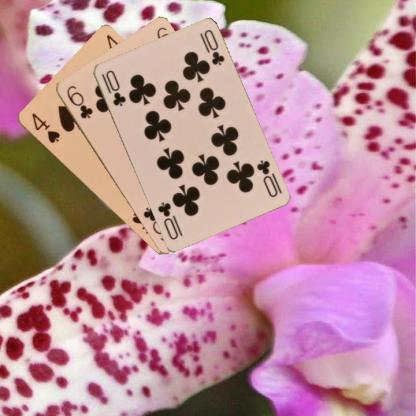10c: (102, 66, 127, 108), (254, 157, 278, 199)
4s: (29, 110, 61, 145)
6c: (63, 82, 94, 120)
